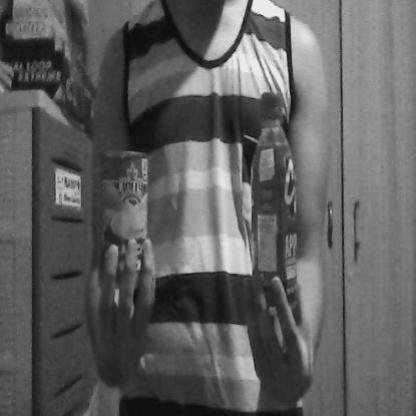Plastic Bottle: (236, 79, 313, 350)
